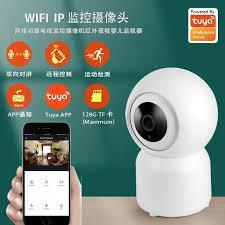maru: (125, 64, 224, 157)
